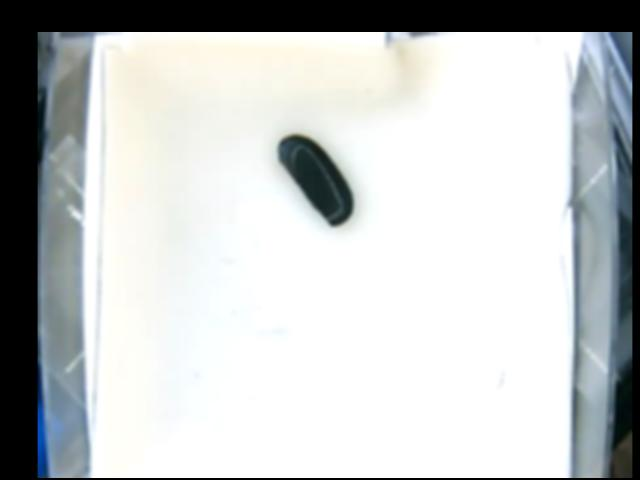Pebble: (275, 136, 352, 228)
